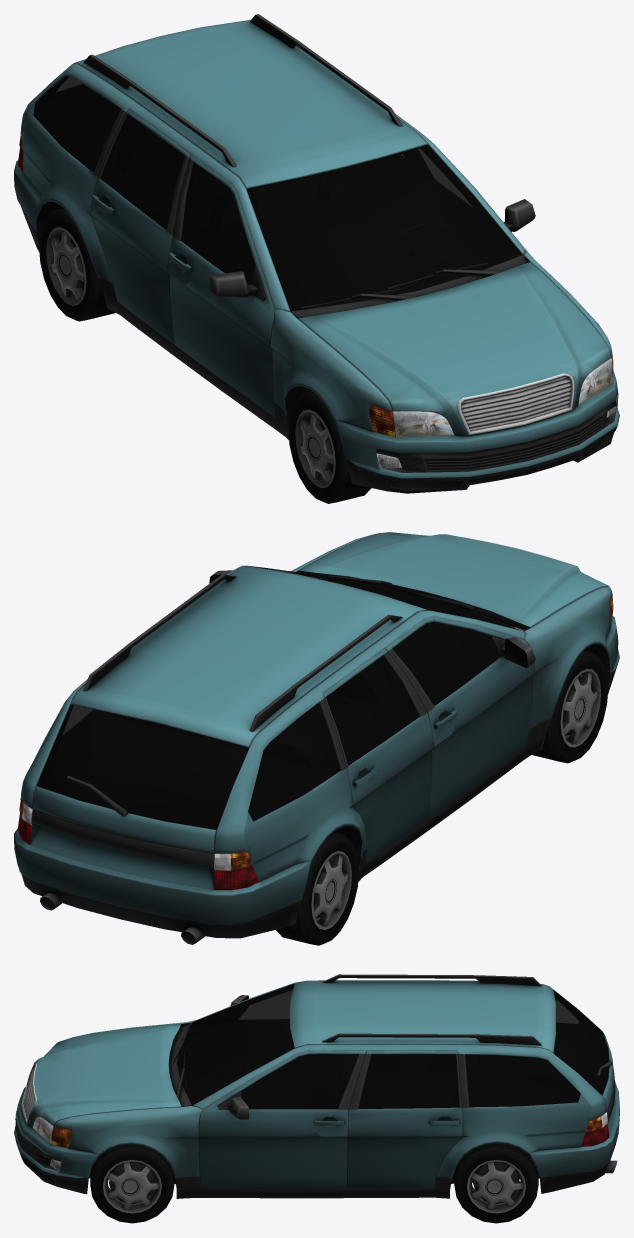
Rendered from veicolo_station_wagon.glb.
3 renders of one model, top to bottom at view 1: azimuth 30°, elevation 25°; view 2: azimuth 150°, elevation 25°; view 3: azimuth 270°, elevation 25°, orthographic. The views are drawn at different scales.
Visible parts, largest first — view 1: sb_modello; view 2: sb_modello; view 3: sb_modello.
Boxes of the visible parts, box(x1,y1,x2,y2) form: sb_modello: box(14, 14, 619, 503); sb_modello: box(14, 532, 619, 945); sb_modello: box(14, 974, 619, 1223).
Bounding box in the file's own units: 1.95 × 1.38 × 4.38.
Materials: 4 (3 with a texture image).
